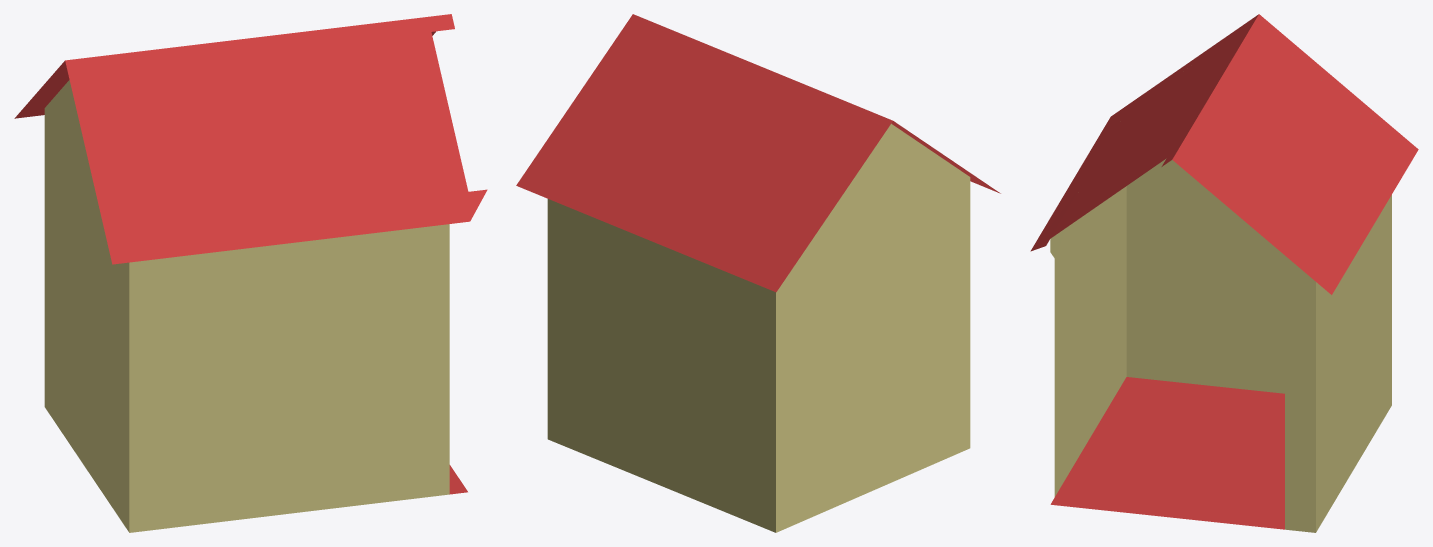
3 renders of one model, left to right at view 1: azimuth 30°, elevation 25°; view 2: azimuth 150°, elevation 25°; view 3: azimuth 270°, elevation 25°, orthographic. The views are drawn at different scales.
Bounding box in the file's own units: 14.48 × 13.31 × 13.89.
